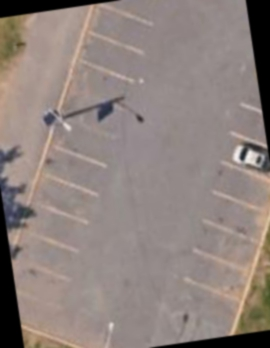parkingspot: (10, 0, 171, 344), (178, 68, 270, 307)
